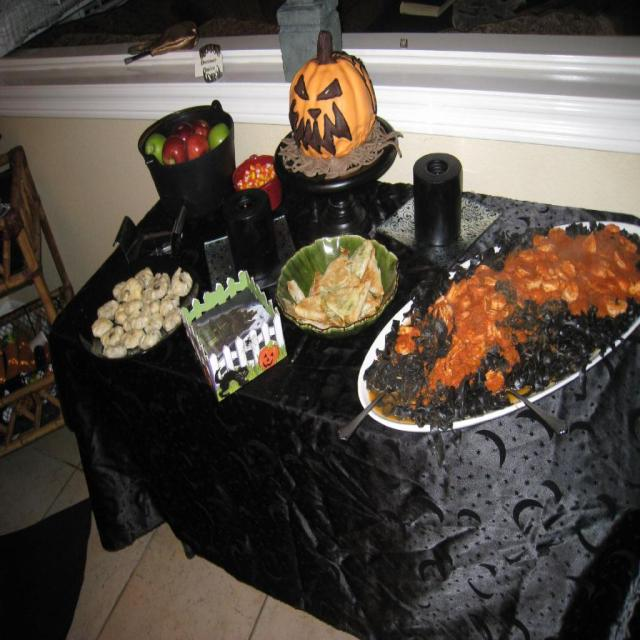Healty Apple: (161, 135, 185, 164), (145, 134, 166, 164), (185, 135, 208, 160), (208, 123, 228, 149), (173, 124, 193, 142), (194, 120, 210, 138)
